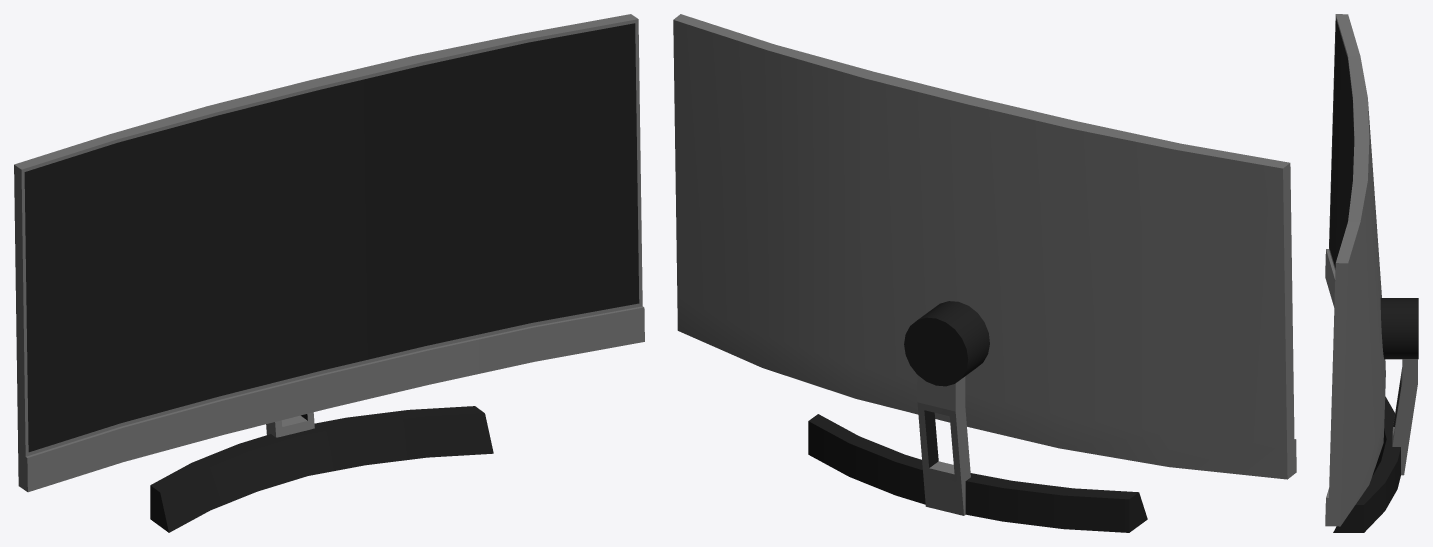
Rendered from Monitor.fbx.
3 renders of one model, left to right at view 1: azimuth 30°, elevation 25°; view 2: azimuth 150°, elevation 25°; view 3: azimuth 270°, elevation 25°, orthographic. The views are drawn at different scales.
Visible parts, largest first — view 1: Monitor; view 2: Monitor; view 3: Monitor.
Boxes of the visible parts, box(x1,y1,x2,y2) form: Monitor: box(14, 14, 644, 532); Monitor: box(673, 14, 1296, 532); Monitor: box(1325, 14, 1418, 532).
Bounding box in the file's own units: 0.8411 × 0.518 × 0.1337.
